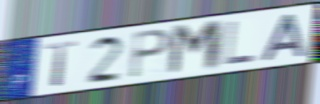2: (84, 34, 127, 84)
A: (259, 11, 309, 64)
L: (222, 20, 257, 67)
M: (166, 18, 225, 78)
P: (127, 28, 173, 80)
T: (44, 39, 79, 88)
